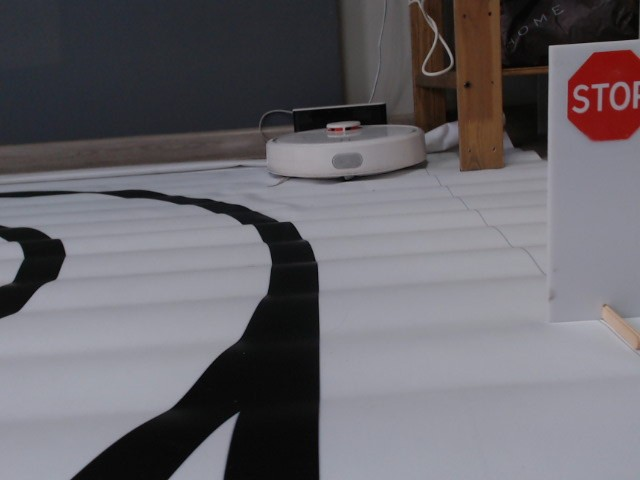Stop: (565, 48, 640, 143)
